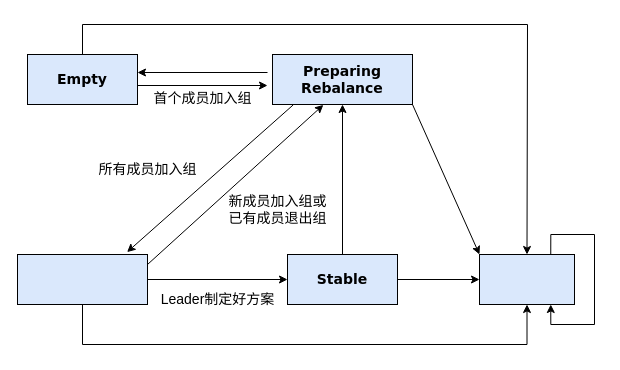
The diagram is 620 pixels wide and 370 high, and some of its shapes have lost their labels. The shapes that lost their labels are listed below. From the top down, each one's centre as x and y in pixels, then its label:
At point 82,279: "Completing Rebalance".
At point 526,279: "Dead".
